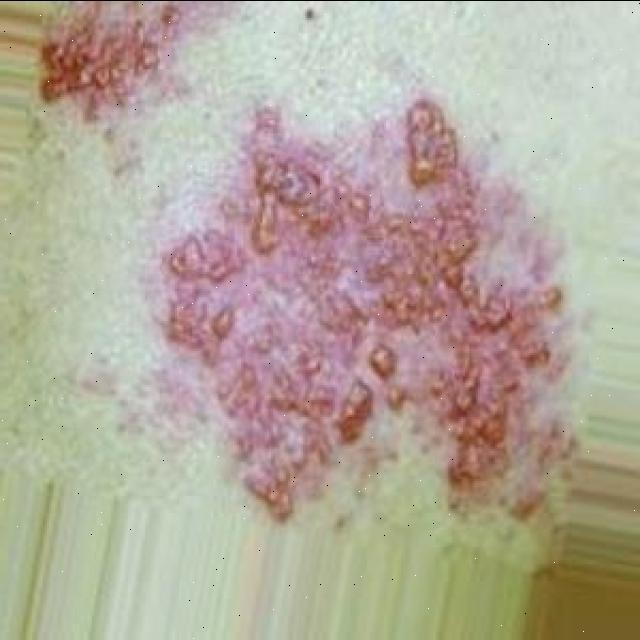Shingles: (166, 102, 561, 524), (40, 5, 179, 110)
